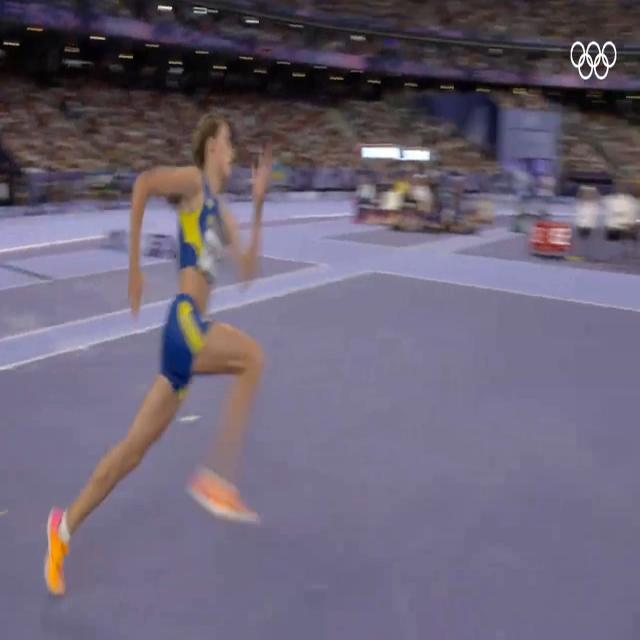run: (42, 107, 274, 601)
